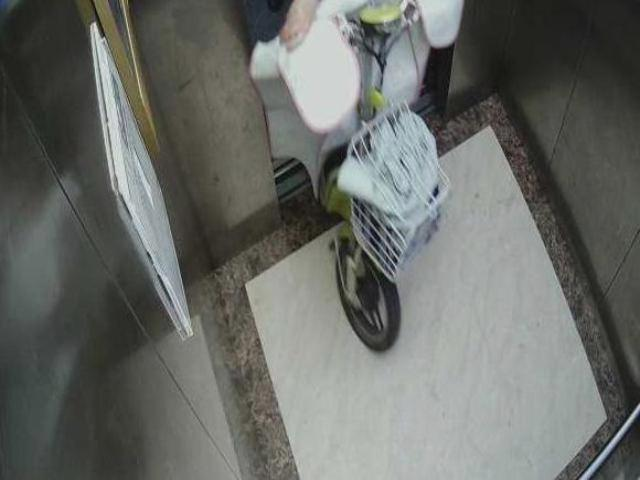emotor: (312, 11, 442, 337)
